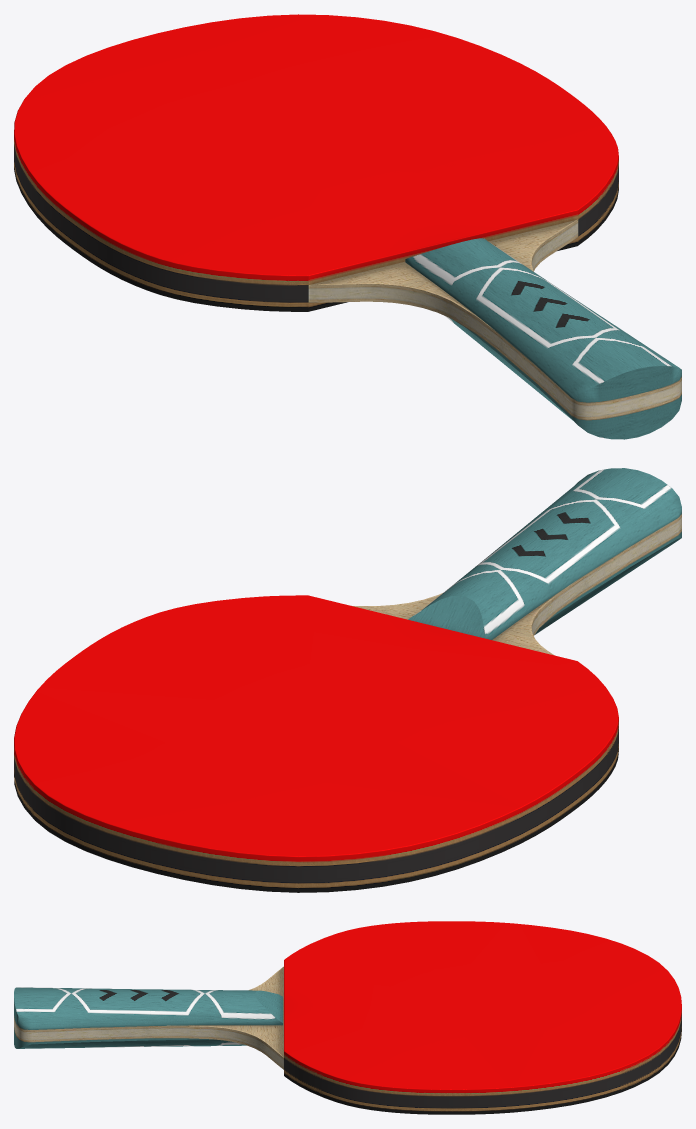
Rendered from paddle.gltf.
The picture shows the model from 3 angles, top to bottom: view 1: azimuth 30°, elevation 25°; view 2: azimuth 150°, elevation 25°; view 3: azimuth 270°, elevation 25°; orthographic projection. The views are drawn at different scales.
Parts seen in each view (by area): view 1: SM_PingPongPaddle; view 2: SM_PingPongPaddle; view 3: SM_PingPongPaddle.
Boxes of the visible parts, left/top/right/bottom form: SM_PingPongPaddle: left=14, top=14, right=681, bottom=439; SM_PingPongPaddle: left=14, top=468, right=681, bottom=892; SM_PingPongPaddle: left=14, top=921, right=681, bottom=1114.
Size of the model in its own units: 0.1492 by 0.0203 by 0.2501.
Materials: 1 (1 with a texture image).
